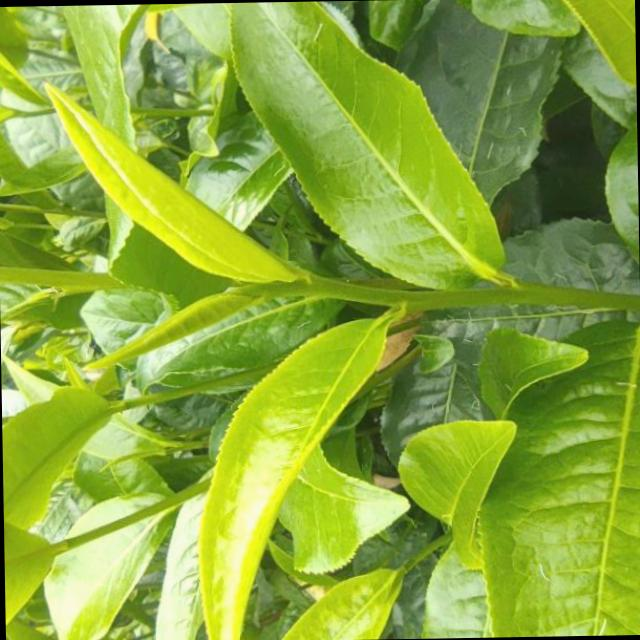Stem: (305, 276, 328, 294)
